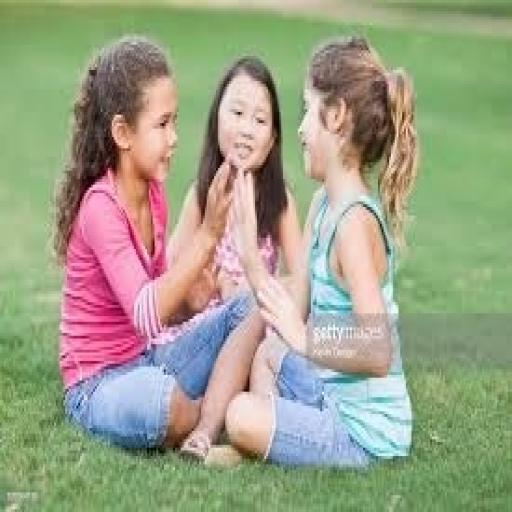clapping: (50, 34, 261, 462), (223, 33, 417, 473)
